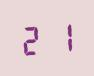one: (47, 20, 74, 53)
two: (19, 22, 46, 55)
